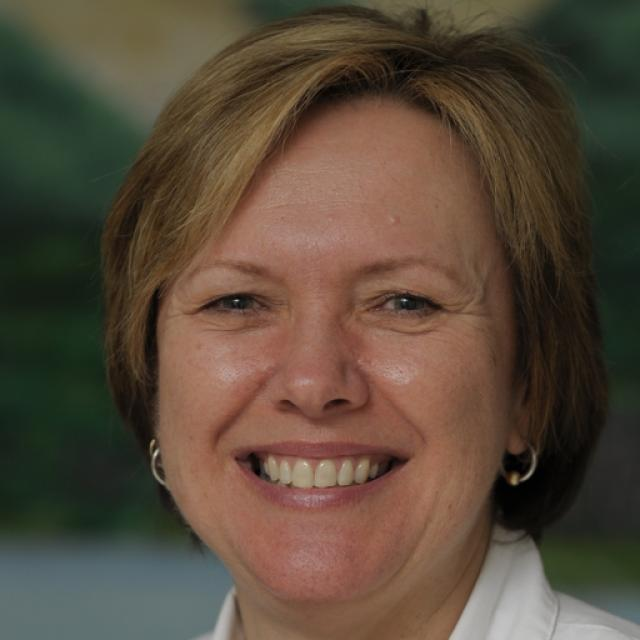Acne: (316, 210, 343, 230), (380, 212, 401, 231)
